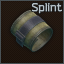Immobilizing splint: (0, 0, 64, 64)
